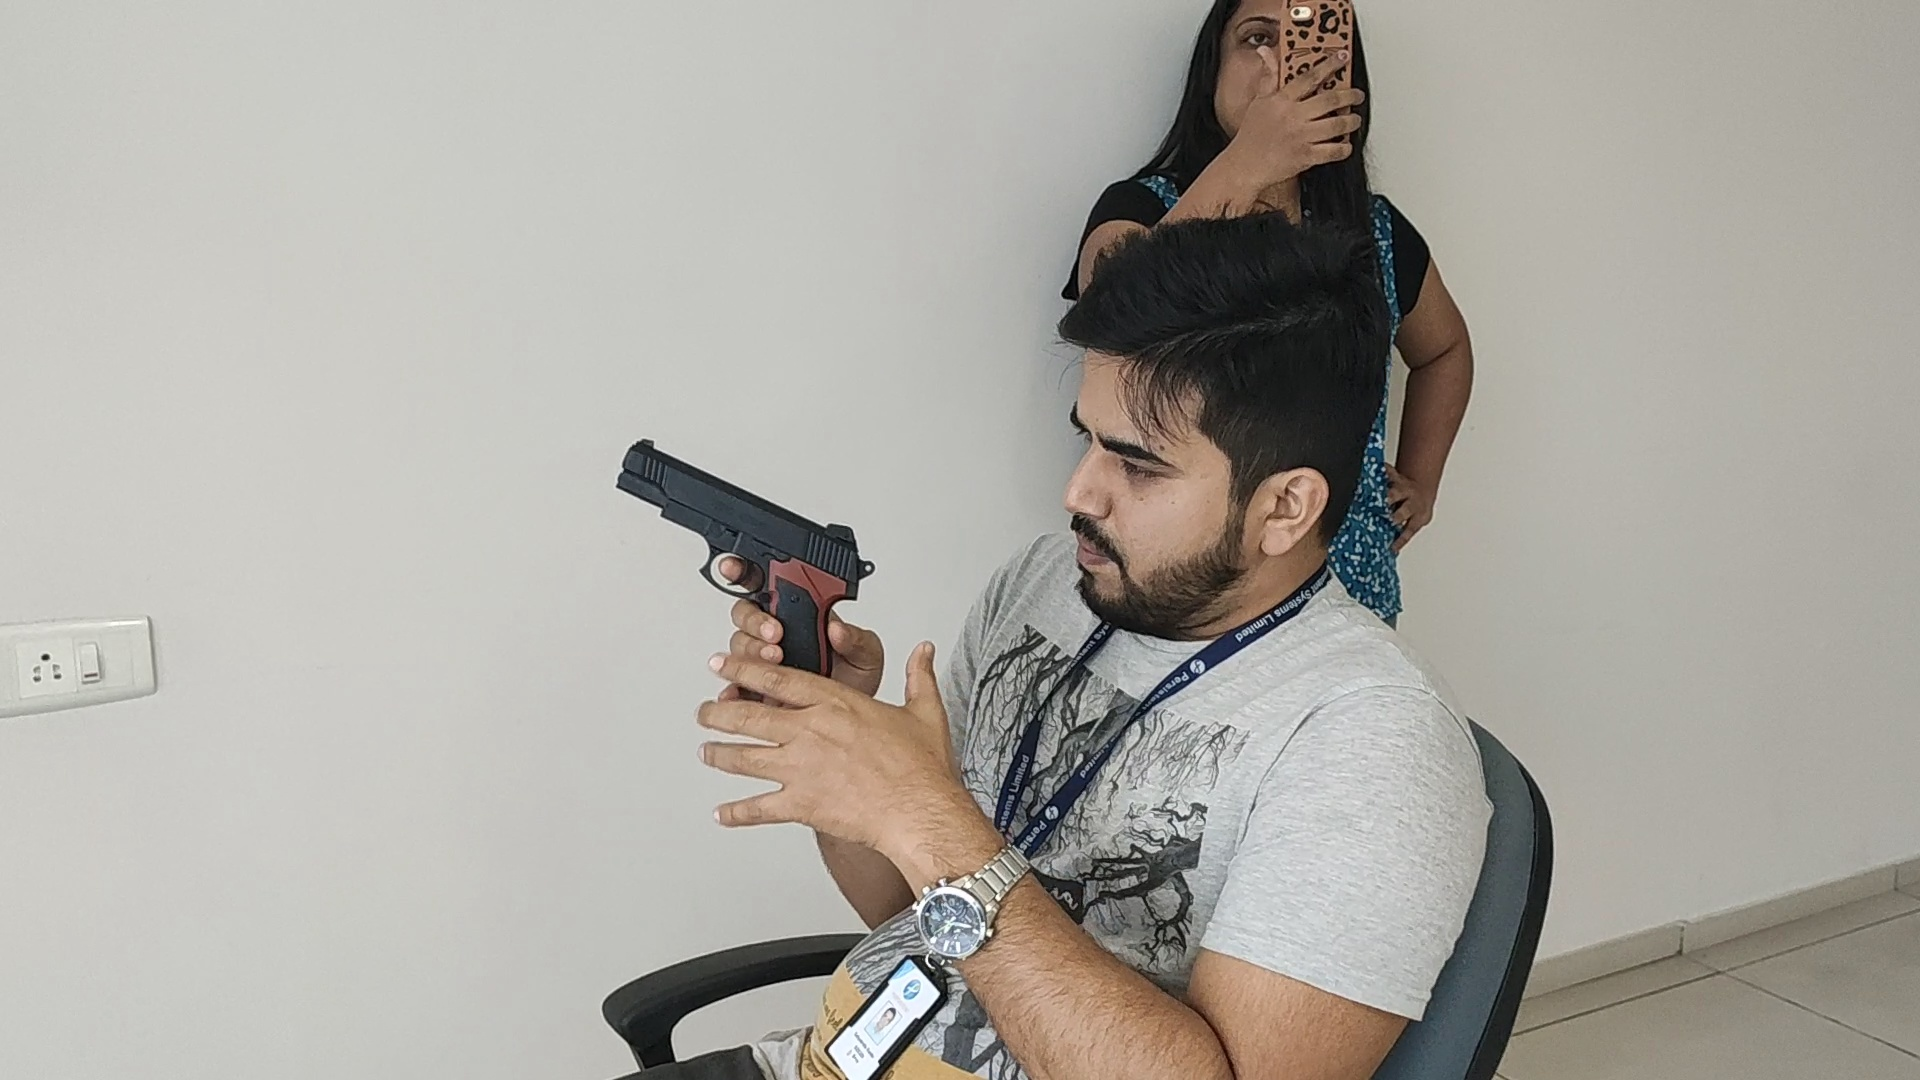gun: (615, 436, 876, 597)
